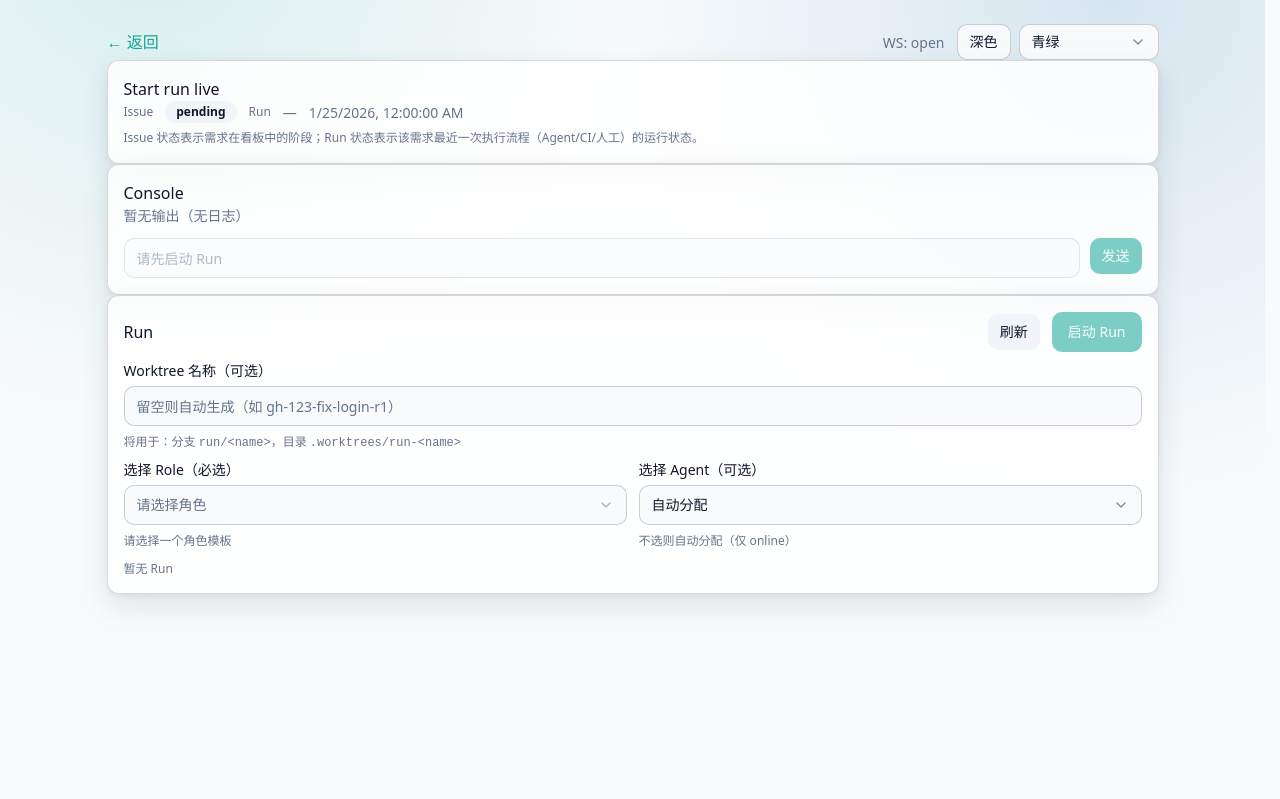
Test case: IssueDetailPage › loads new run events without page refresh (even when WS is open)
Expected: the heading "Start run live" is shown, [124, 78, 220, 100]
Click the dropdown "请选择角色": (172, 504) [124, 485, 626, 525]
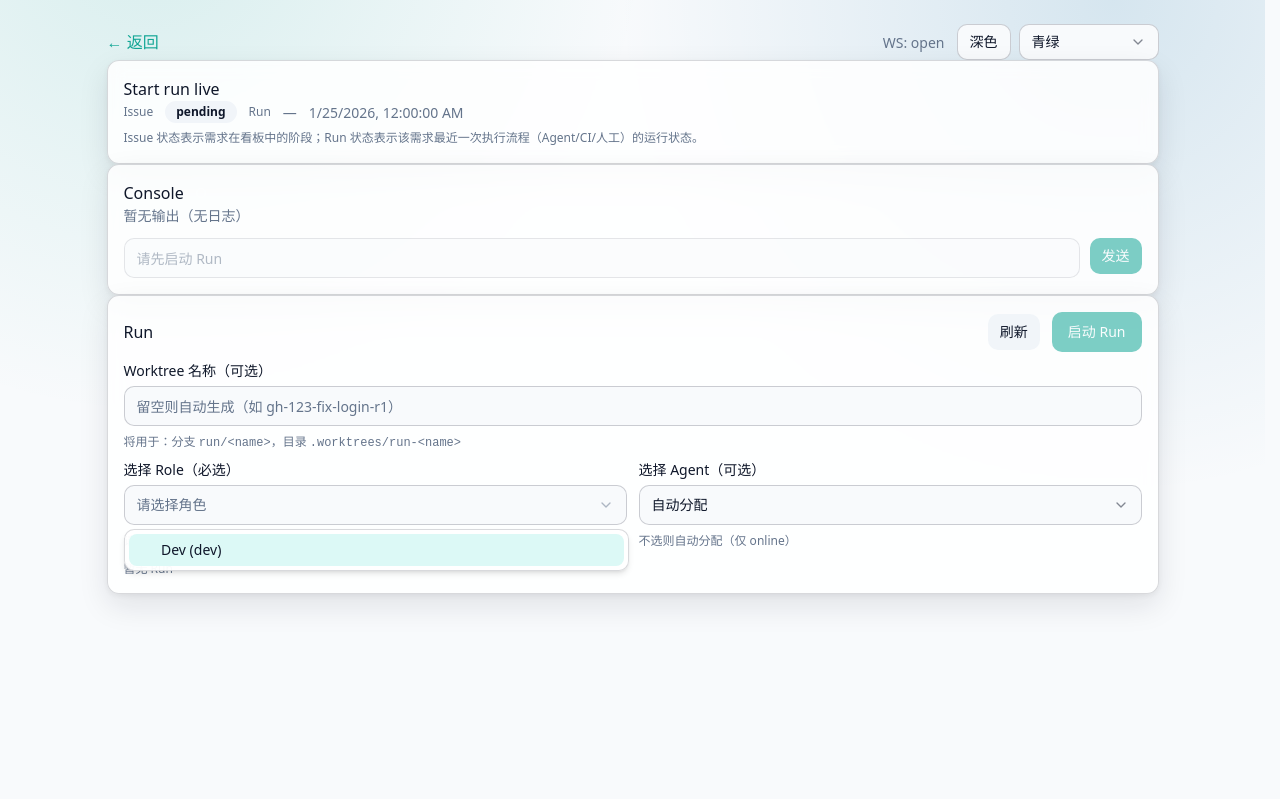
Click the option "Dev (dev)": (173, 550) [129, 534, 624, 566]
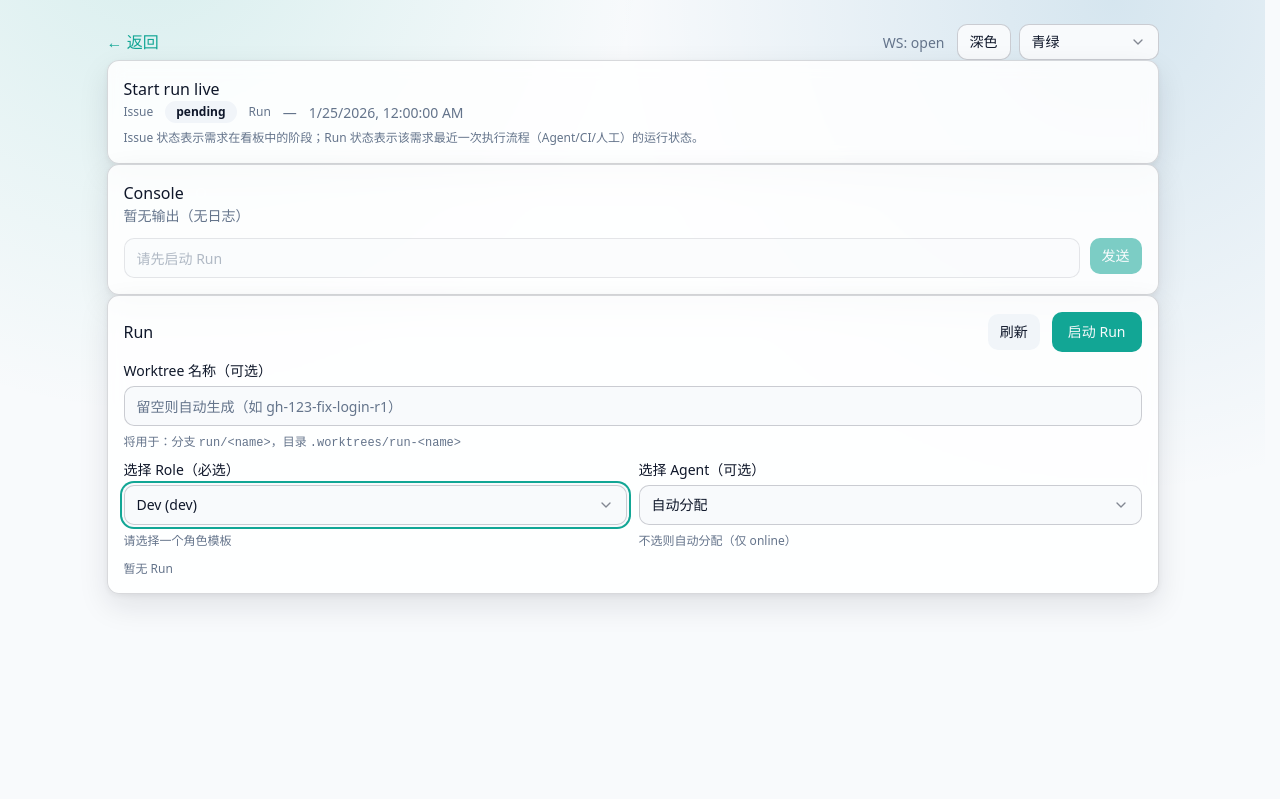
Click the button "启动 Run": (1097, 332) [1052, 312, 1142, 352]
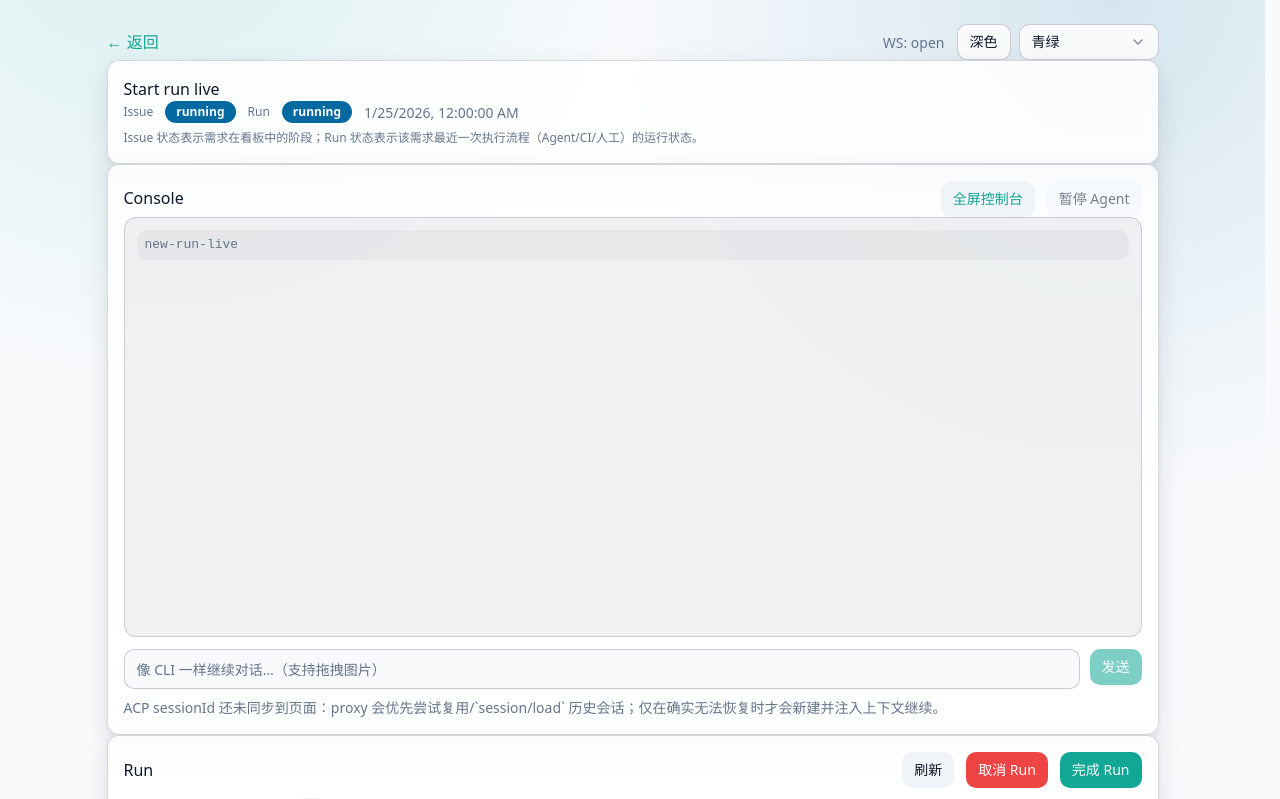
Result: the text "new-run-live" is shown at [144, 237, 238, 252]
